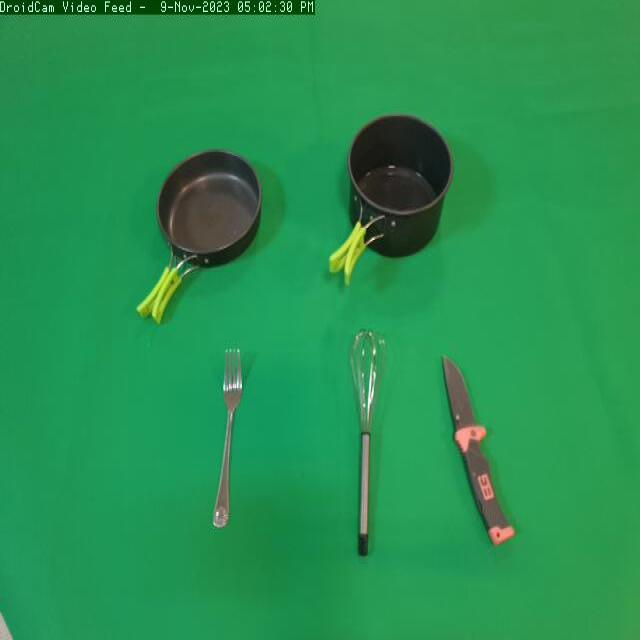fork: (207, 339, 256, 534)
knife: (433, 343, 529, 566)
pan: (130, 140, 270, 328)
pot: (326, 103, 462, 312)
whisk: (339, 323, 402, 575)
